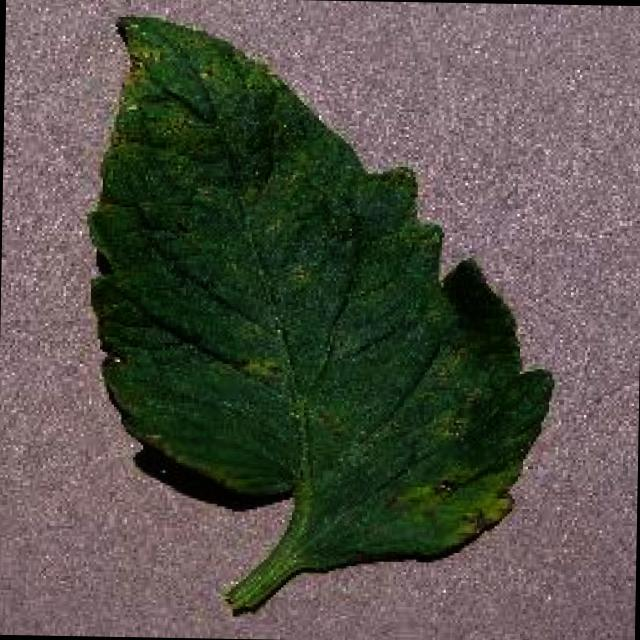Tomato Septoria spot leaf: (78, 11, 566, 579)
